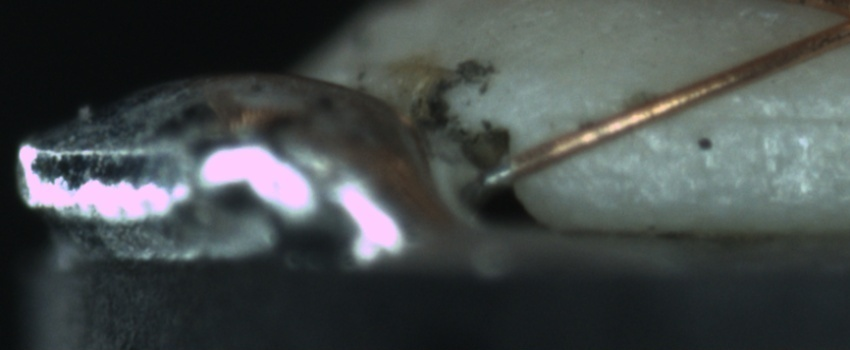DL: (674, 82, 847, 149)
TS: (483, 157, 516, 187)
